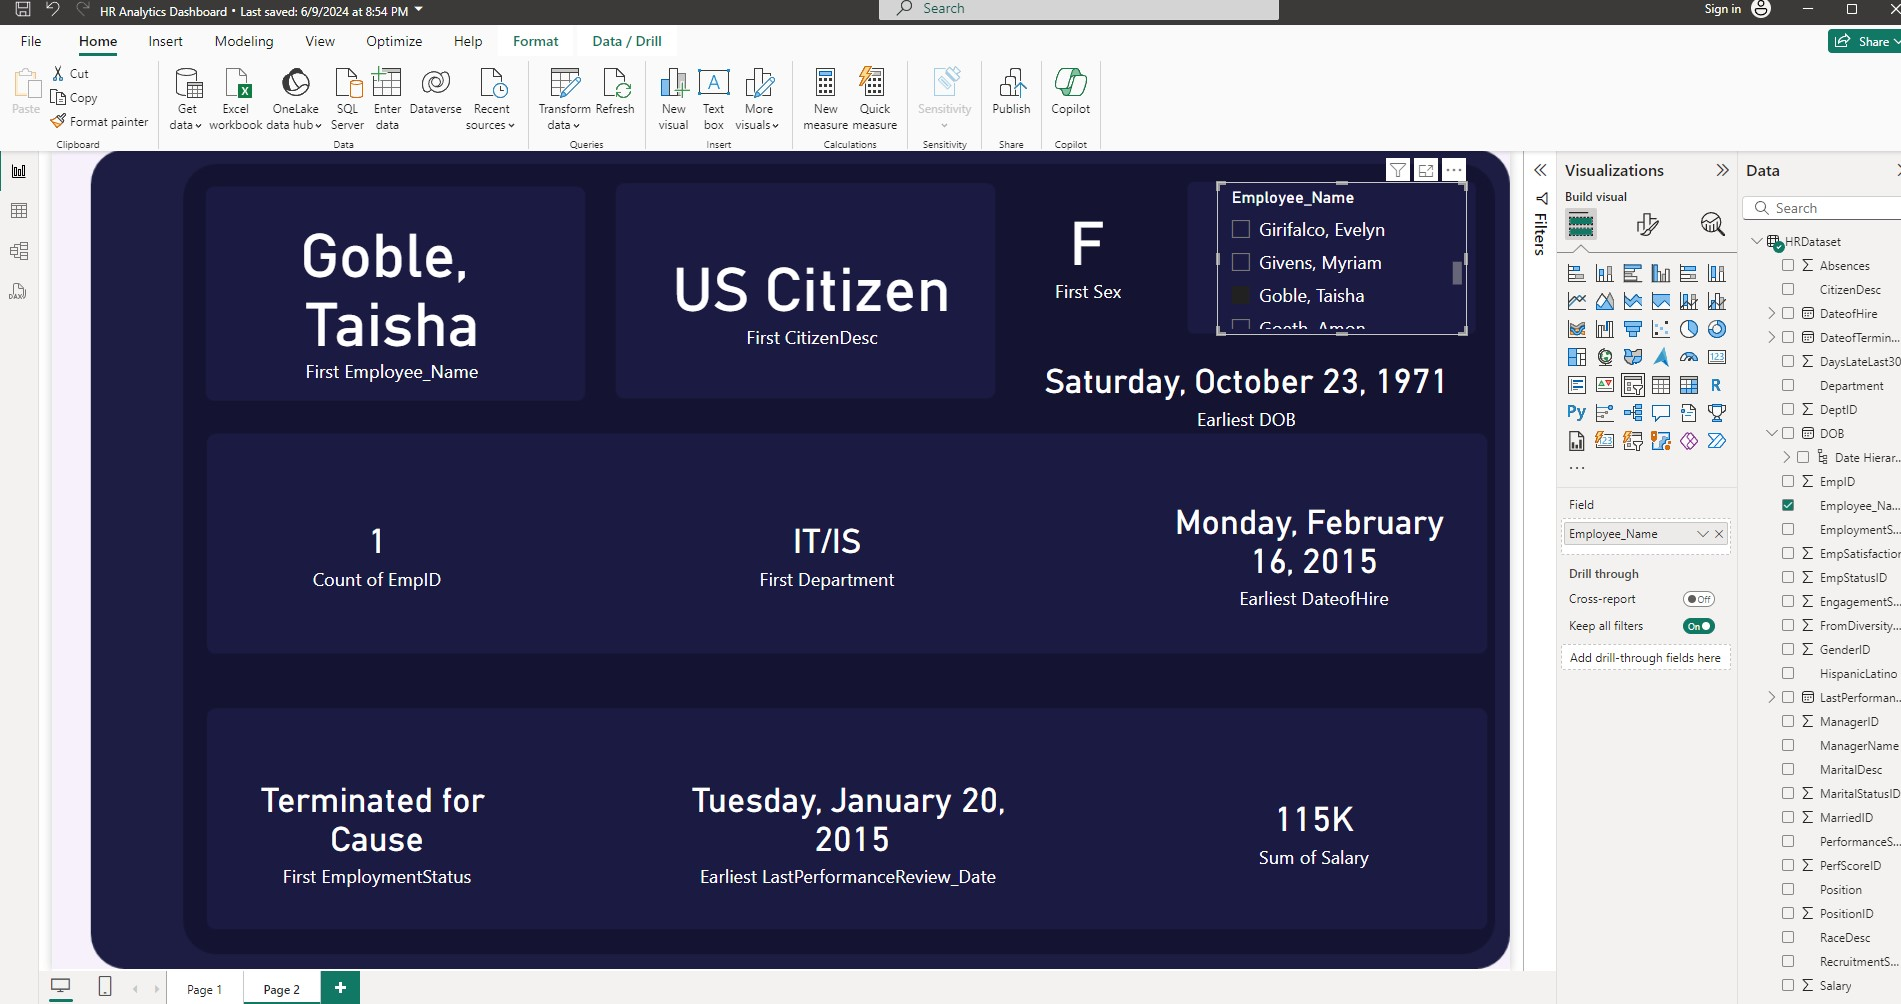

Layout of this report page (visuals, bound fields, positions):
{"tool":"powerbi","page":{"name":"Page 2","canvas":[1280,720],"ordinal":1},"visuals":[{"type":"card","fields":{"Values":["Min(HRDataset.Employee_Name)"]},"box":[151,39.5,295,171.2],"z":0},{"type":"card","fields":{"Values":["Min(HRDataset.CitizenDesc)"]},"box":[519.8,39.5,295,171.2],"z":1000},{"type":"card","fields":{"Values":["Min(HRDataset.Sex)"]},"box":[790.2,15.8,238.8,137.9],"z":2000},{"type":"card","fields":{"Values":["Min(HRDataset.DOB)"]},"box":[834.1,173.9,429.4,73.8],"z":3000},{"type":"card","fields":{"Values":["CountNonNull(HRDataset.EmpID)"]},"box":[151,282.7,268.7,137],"z":4000},{"type":"card","fields":{"Values":["Min(HRDataset.Department)"]},"box":[546.1,282.7,268.7,137],"z":5000},{"type":"card","fields":{"Values":["Min(HRDataset.DateofHire)"]},"box":[973.8,282.7,268.7,137],"z":6000},{"type":"card","fields":{"Values":["Min(HRDataset.EmploymentStatus)"]},"box":[151,526.8,268.7,137],"z":7000},{"type":"card","fields":{"Values":["Min(HRDataset.LastPerformanceReview_Date)"]},"box":[546.1,526.8,305.6,137],"z":8000},{"type":"card","fields":{"Values":["Sum(HRDataset.Salary)"]},"box":[973.8,526.8,268.7,137],"z":9000},{"type":"slicer","fields":{"Values":["HRDataset.Employee_Name"]},"box":[1022.9,27.2,219.5,134.3],"z":10000},{"type":"actionButton","box":[50.9,39.5,100.1,40.4],"z":10001}]}

Visuals, with their boxes on the page's 1280x720 design canvas (x1, y1, x2, y2). These are canvas units, not pixel positions in the 1901x1004 screenshot, which may show the page scaled, cropped or inside an application window:
card - Min(HRDataset.Employee_Name): box(151, 40, 446, 211)
card - Min(HRDataset.CitizenDesc): box(520, 40, 815, 211)
card - Min(HRDataset.Sex): box(790, 16, 1029, 154)
card - Min(HRDataset.DOB): box(834, 174, 1264, 248)
card - CountNonNull(HRDataset.EmpID): box(151, 283, 420, 420)
card - Min(HRDataset.Department): box(546, 283, 815, 420)
card - Min(HRDataset.DateofHire): box(974, 283, 1242, 420)
card - Min(HRDataset.EmploymentStatus): box(151, 527, 420, 664)
card - Min(HRDataset.LastPerformanceReview_Date): box(546, 527, 852, 664)
card - Sum(HRDataset.Salary): box(974, 527, 1242, 664)
slicer - HRDataset.Employee_Name: box(1023, 27, 1242, 162)
actionButton: box(51, 40, 151, 80)
